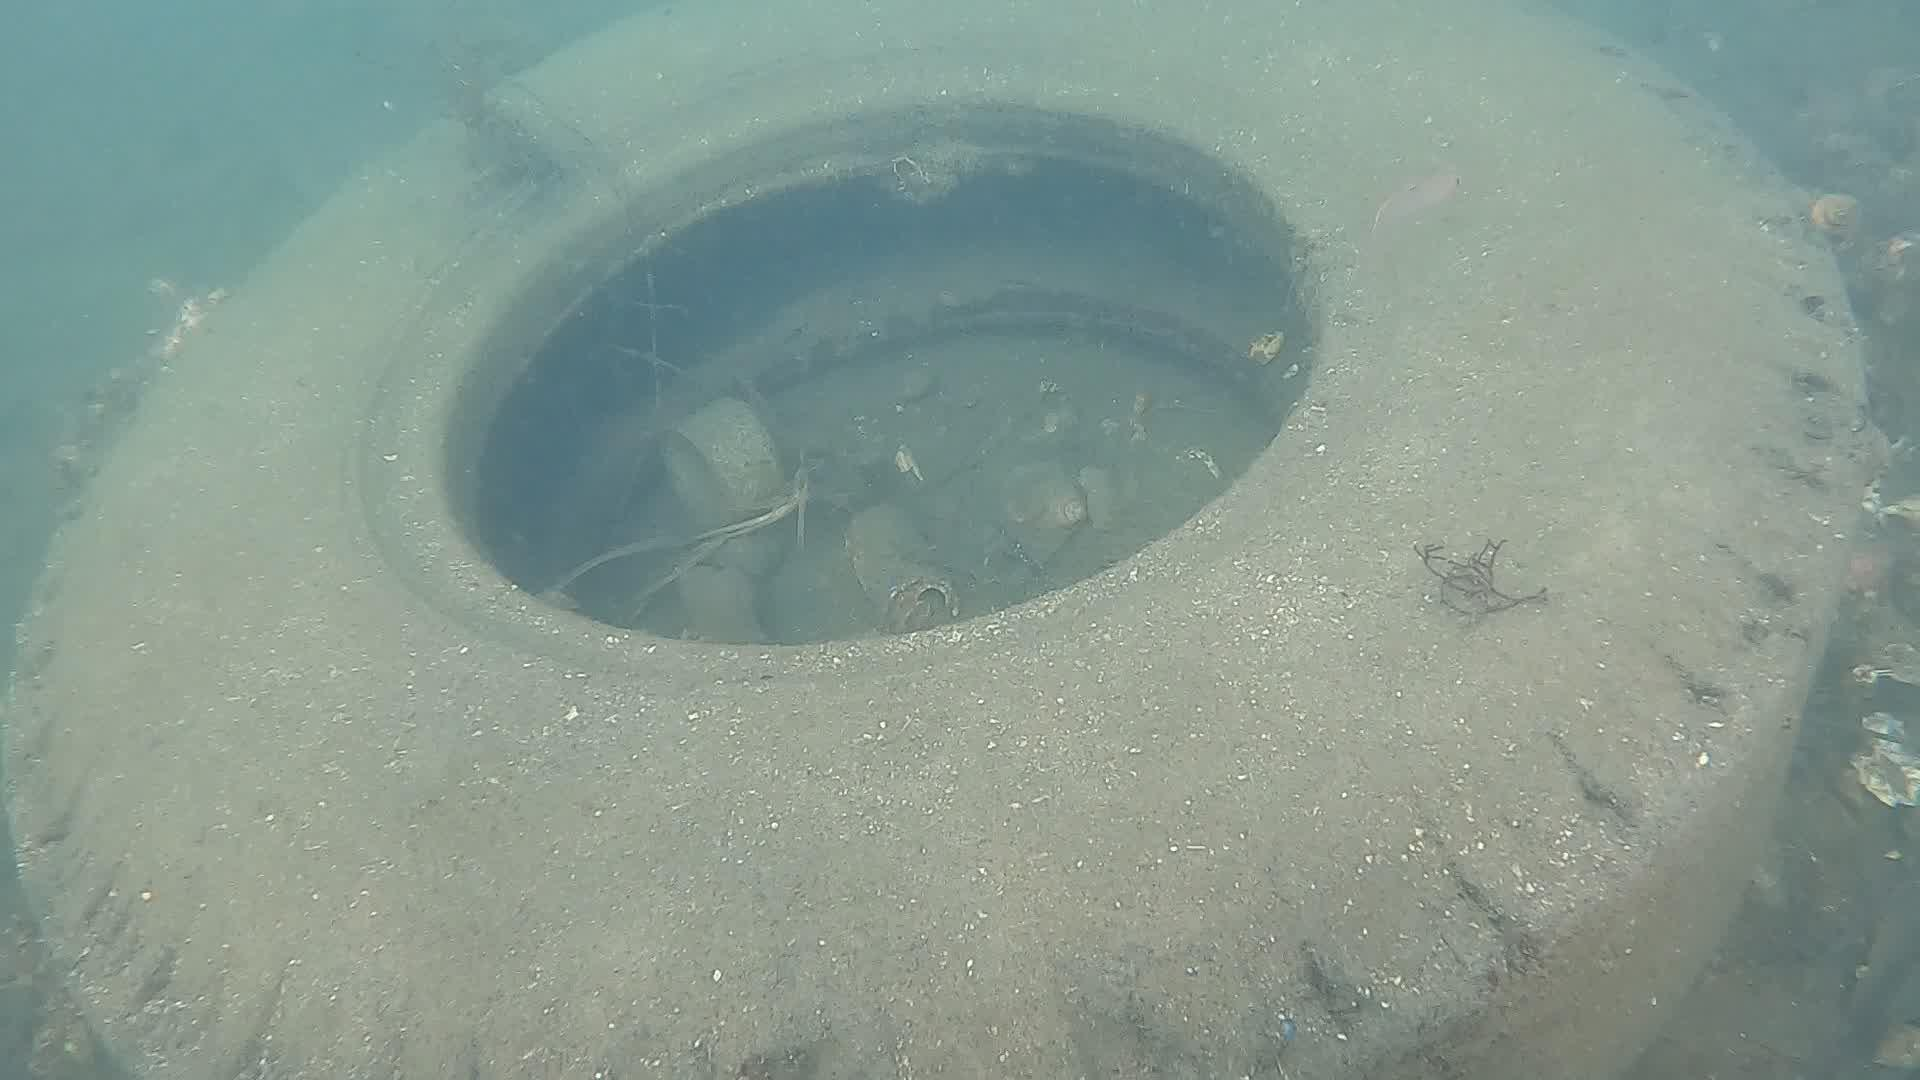tire: (0, 0, 1865, 1080)
